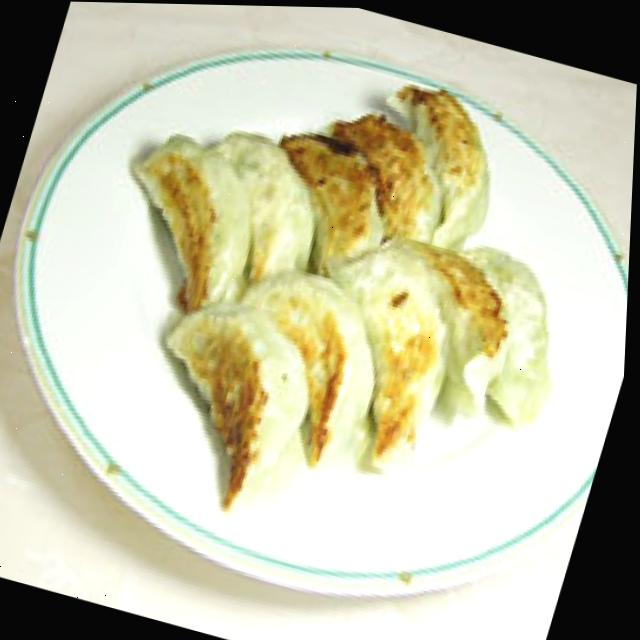带馅早点: (38, 23, 619, 563)
